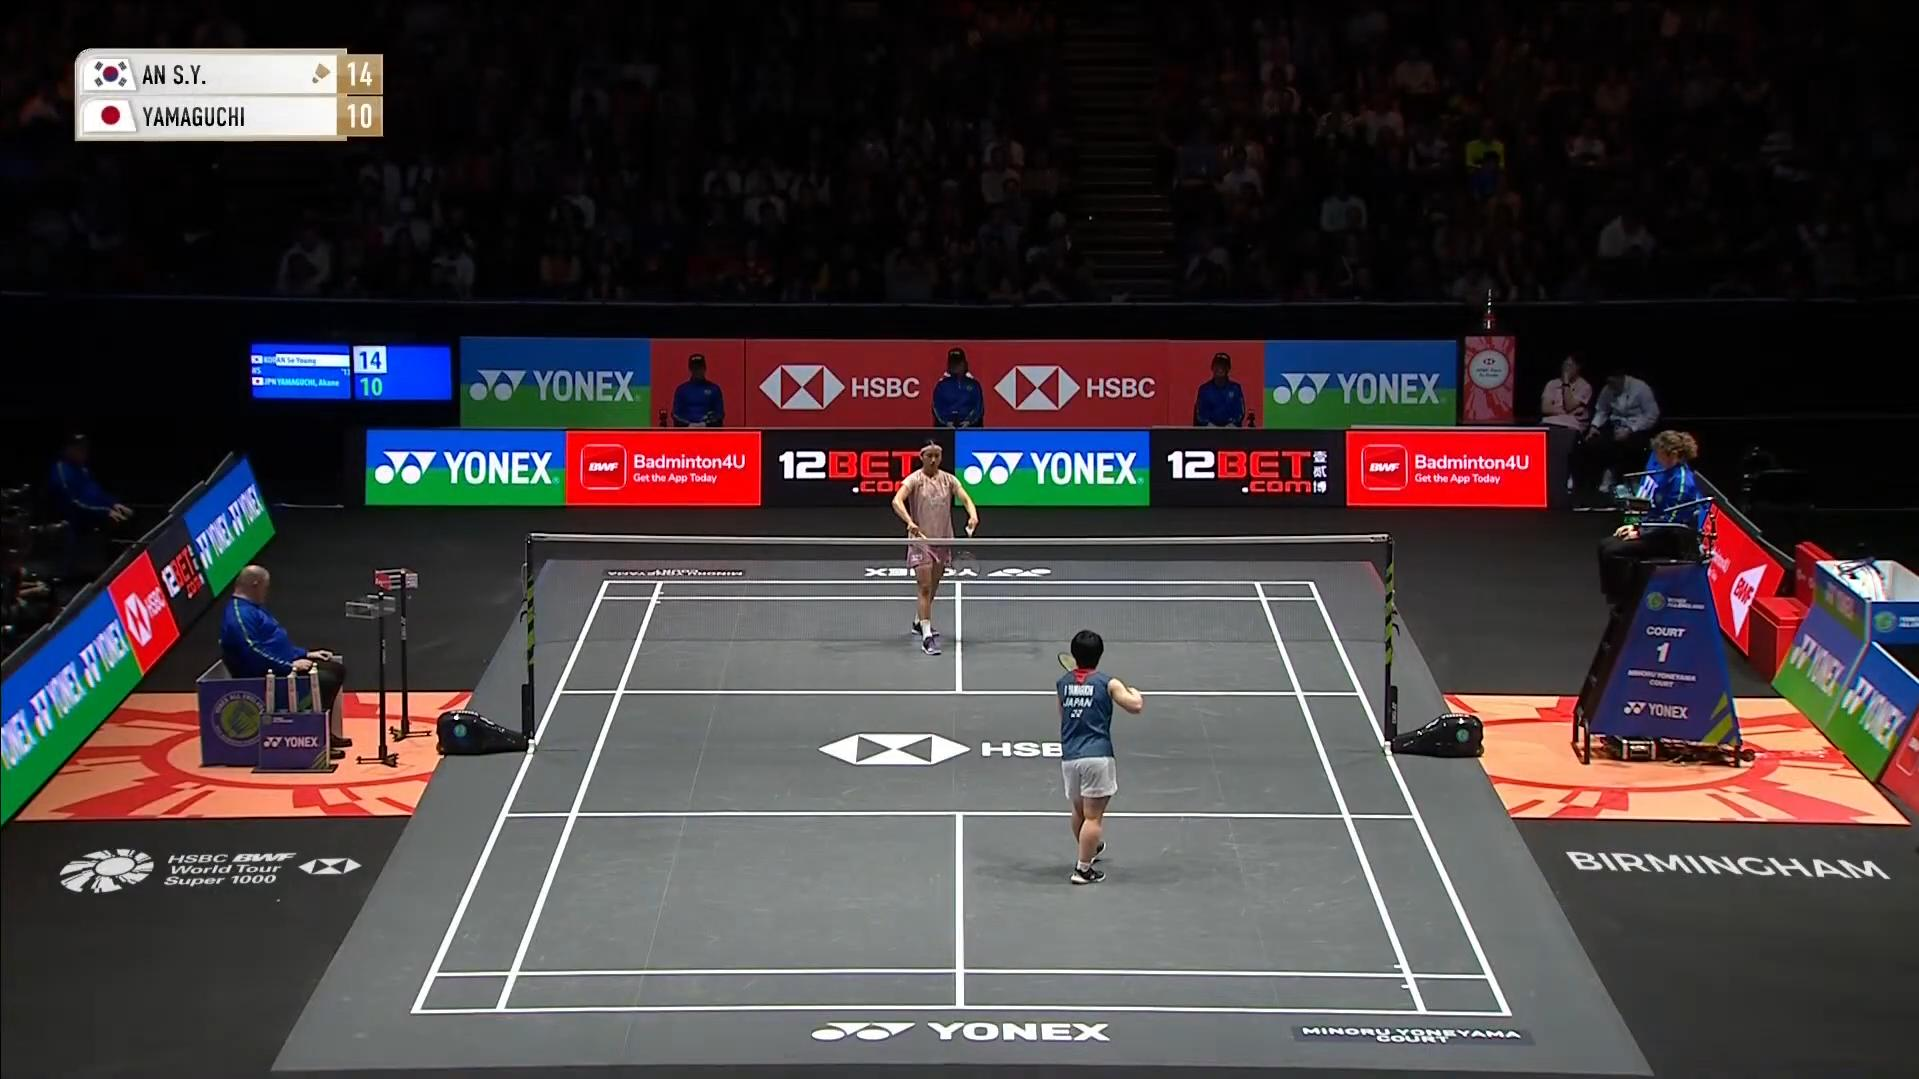shuttle: (959, 523, 979, 539)
